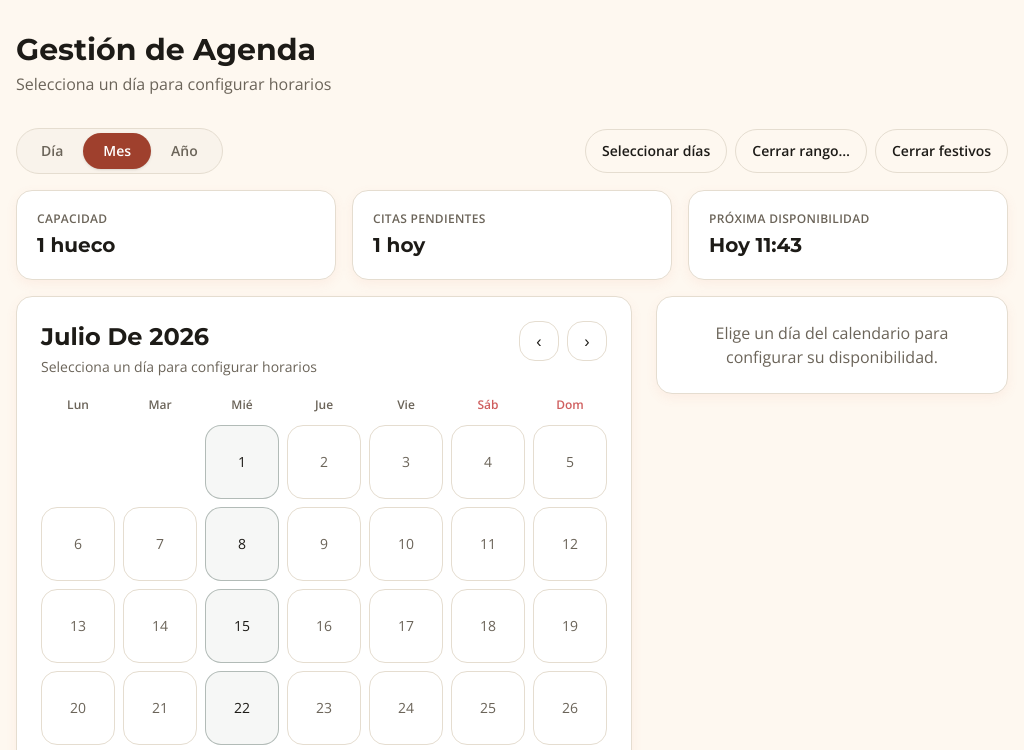
Agenda de disponibilidad de la protectora › compone el resumen (capacidad de los huecos) y la vista diaria con el detalle de la cita
Expected: the text "1 hueco" is shown, [37,233,116,257]
Click the radio button labelled "Día". click: click(52, 151)
box: [21,133,83,169]
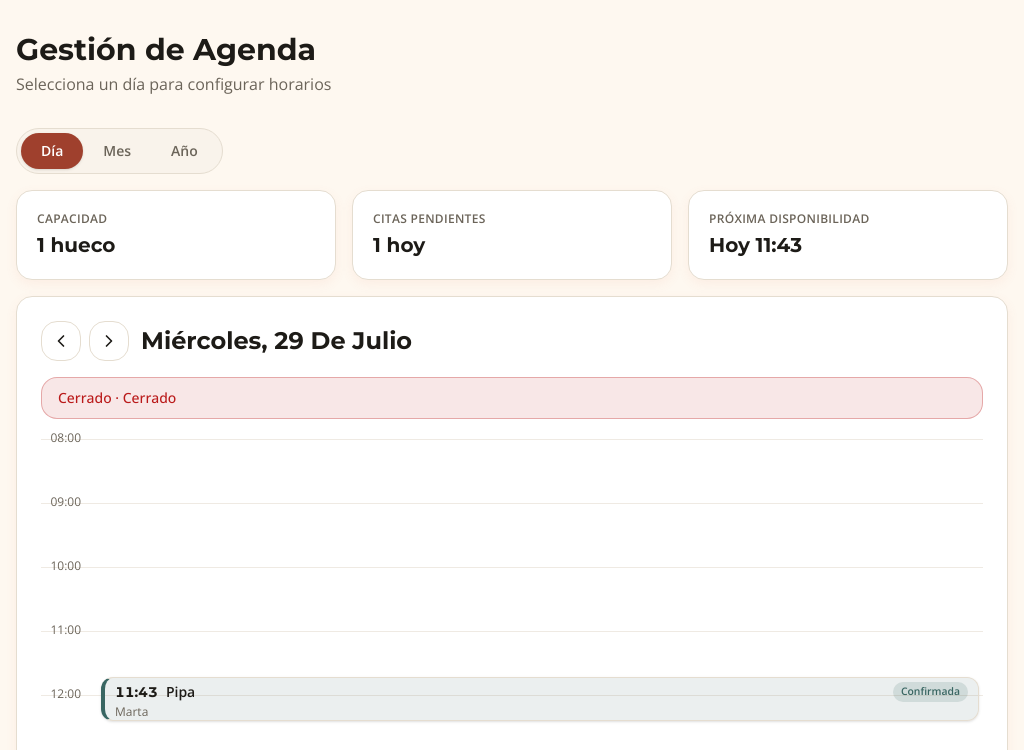
Expected: the text "Pipa" is shown, [166,682,195,702]
Expected: the text "Marta" is shown, [115,703,148,720]
